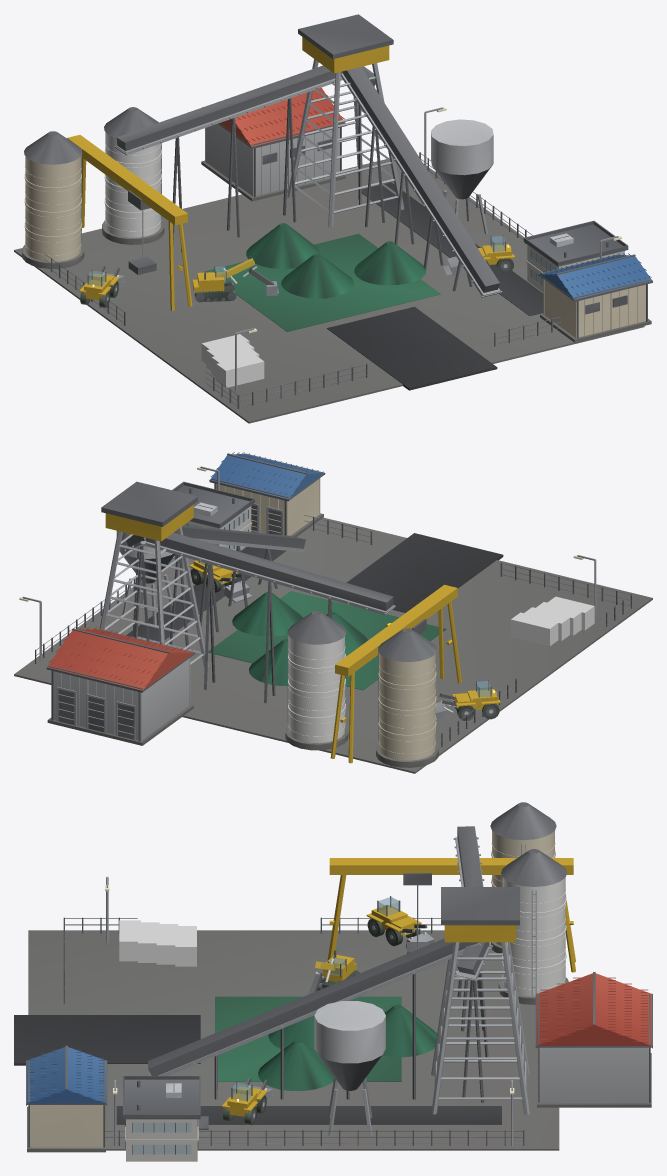
Rendered from Depot_P2.fbx.
3 renders of one model, top to bottom at view 1: azimuth 30°, elevation 25°; view 2: azimuth 150°, elevation 25°; view 3: azimuth 270°, elevation 25°, orthographic. The views are drawn at different scales.
Parts seen in each view (by area): view 1: Depot.Yard, Depot.Shed1, Depot.Tower, Depot.ConvMain, Depot.Shed2, Depot.Silo0, Depot.ConvB, Depot.Silo1, Depot.Hopper, Depot.Gantry, Depot.Office, Depot.Containers (+7 smaller); view 2: Depot.Yard, Depot.Shed1, Depot.Tower, Depot.Silo0, Depot.Silo1, Depot.ConvB, Depot.Shed2, Depot.Gantry, Depot.ConvMain, Depot.Containers, Depot.Office, Depot.Fence (+7 smaller); view 3: Depot.Yard, Depot.Shed1, Depot.Tower, Depot.ConvMain, Depot.Shed2, Depot.Silo1, Depot.Office, Depot.Hopper, Depot.Gantry, Depot.Containers, Depot.Silo0, Depot.Fence (+8 smaller).
Boxes of the visible parts, x1,y1,x2,y2 form: Depot.Yard: [14, 159, 644, 423]; Depot.Shed1: [201, 87, 346, 201]; Depot.Tower: [287, 14, 404, 227]; Depot.ConvMain: [341, 67, 502, 297]; Depot.Shed2: [538, 253, 652, 342]; Depot.Silo0: [22, 131, 84, 268]; Depot.ConvB: [114, 65, 342, 252]; Depot.Silo1: [102, 107, 164, 244]; Depot.Hopper: [431, 119, 493, 234]; Depot.Gantry: [67, 135, 192, 310]; Depot.Office: [523, 220, 628, 291]; Depot.Containers: [201, 334, 264, 387]; Depot.Yard: [14, 517, 652, 773]; Depot.Shed1: [46, 626, 195, 745]; Depot.Tower: [99, 481, 208, 666]; Depot.Silo0: [376, 628, 438, 767]; Depot.Silo1: [285, 610, 348, 750]; Depot.ConvB: [144, 532, 395, 703]; Depot.Shed2: [209, 452, 325, 536]; Depot.Gantry: [330, 584, 461, 763]; Depot.ConvMain: [169, 525, 307, 648]; Depot.Containers: [511, 596, 594, 646]; Depot.Office: [172, 481, 254, 559]; Depot.Fence: [35, 515, 631, 746]; Depot.Yard: [14, 930, 559, 1150]; Depot.Shed1: [535, 972, 652, 1107]; Depot.Tower: [431, 887, 529, 1114]; Depot.ConvMain: [148, 938, 481, 1099]; Depot.Shed2: [26, 1045, 107, 1152]; Depot.Silo1: [498, 849, 568, 1004]; Depot.Office: [123, 1076, 208, 1161]; Depot.Hopper: [314, 1001, 385, 1135]; Depot.Gantry: [327, 858, 575, 972]; Depot.Containers: [119, 920, 196, 966]; Depot.Silo0: [490, 802, 556, 953]; Depot.Fence: [63, 917, 524, 1145].
Bounding box in the file's own units: 7842 × 2966 × 8904.
